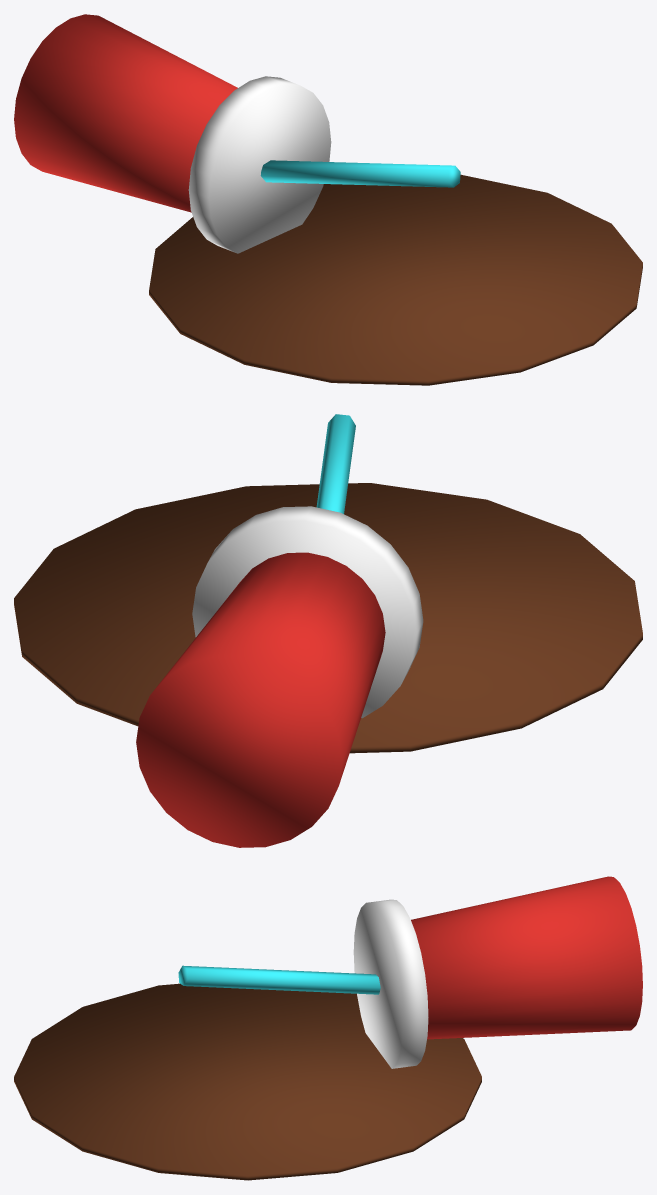
File: Trash_Cup.fbx
3 renders of one model, top to bottom at view 1: azimuth 30°, elevation 25°; view 2: azimuth 150°, elevation 25°; view 3: azimuth 270°, elevation 25°, orthographic. The views are drawn at different scales.
Visible parts, largest first — view 1: Trash_Cup; view 2: Trash_Cup; view 3: Trash_Cup.
Part boxes in pixels (left/top/right/bottom): Trash_Cup: left=14, top=14, right=642, bottom=385; Trash_Cup: left=14, top=414, right=642, bottom=847; Trash_Cup: left=14, top=876, right=642, bottom=1180.
Size of the model in its own units: 0.36 by 0.13 by 0.4837.
